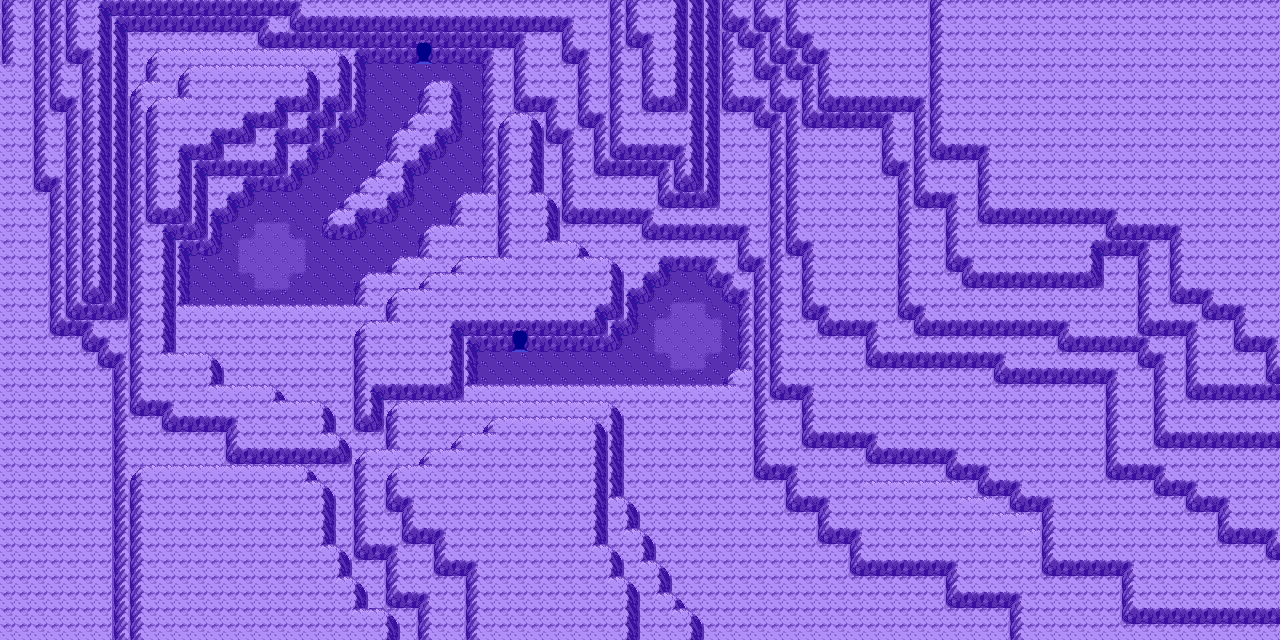cave: (488, 318, 555, 356), (396, 30, 451, 69)
